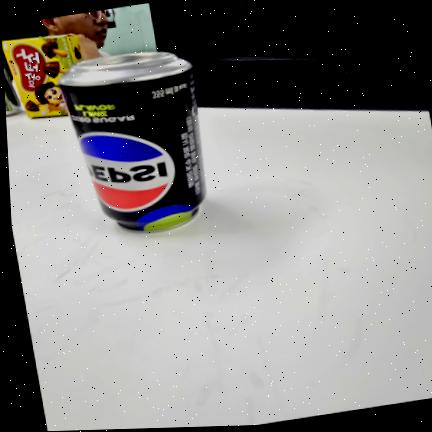can_pepsi_zero: (58, 51, 205, 231)
